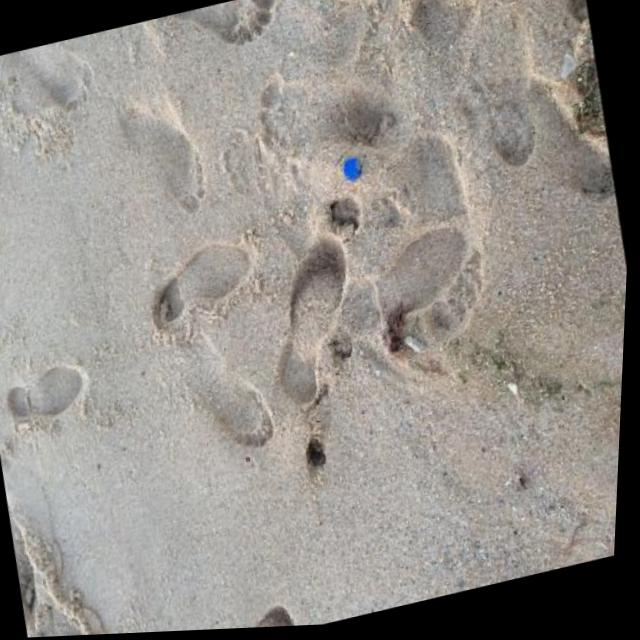plastic: (342, 154, 366, 183)
